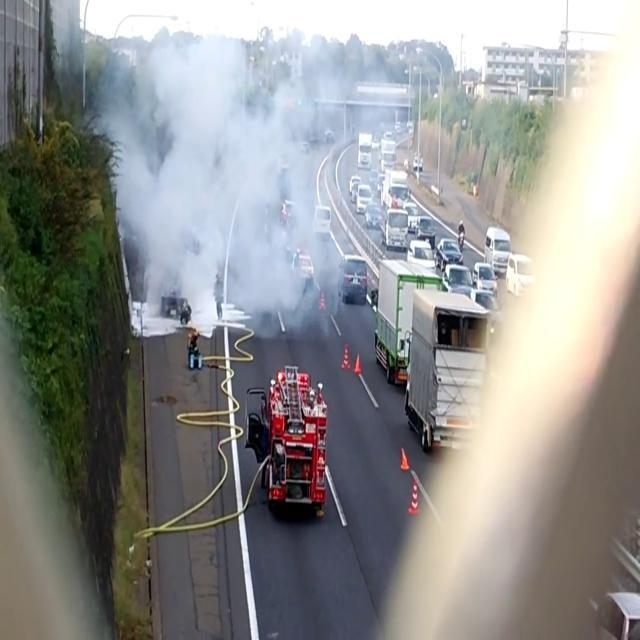Smoke: (88, 0, 354, 310)
